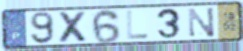3: (155, 7, 184, 41)
6: (90, 7, 122, 44)
9: (29, 11, 57, 45)
L: (125, 9, 151, 41)
N: (187, 6, 217, 39)
X: (57, 11, 92, 44)
